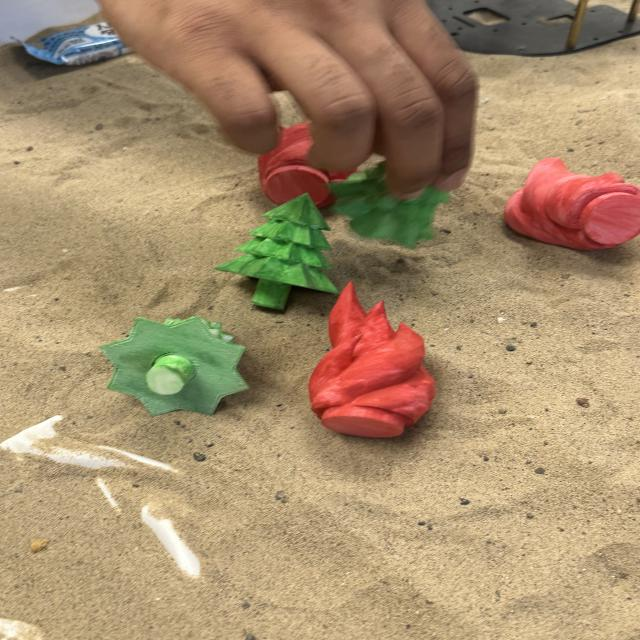fire: (305, 278, 438, 440), (503, 155, 640, 254), (262, 124, 322, 202)
tree: (96, 312, 252, 418), (213, 191, 341, 312), (330, 160, 445, 244)
